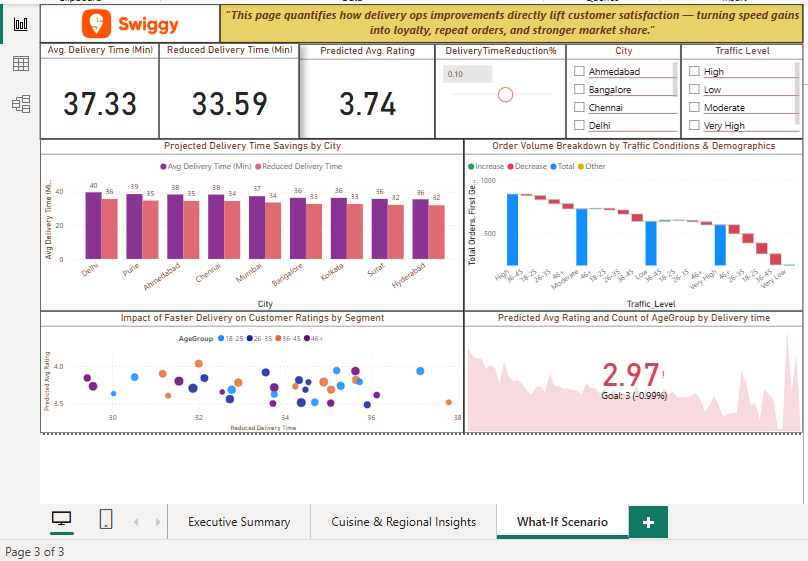

Layout of this report page (visuals, bound fields, positions):
{"tool":"powerbi","page":{"name":"What-If Scenario","canvas":[1280,720],"ordinal":2},"visuals":[{"type":"image","box":[0,0,302,65.4],"z":0},{"type":"textbox","box":[302,0,978,65.4],"z":1000},{"type":"card","title":"Avg. Delivery Time (Min)","fields":{"Values":["Swiggy_Data.Avg Delivery Time (Min)"]},"box":[0,65.4,199.6,161],"z":2000},{"type":"card","title":"Predicted Avg. Rating","fields":{"Values":["DeliveryTimeReduction%.Predicted Avg Rating"]},"box":[434.5,67.1,228.2,159.4],"z":3000},{"type":"card","title":"Reduced Delivery Time (Min)","fields":{"Values":["DeliveryTimeReduction%.Reduced Delivery Time"]},"box":[199.6,65.4,234.9,161],"z":4000},{"type":"slicer","title":"DeliveryTimeReduction%","fields":{"Values":["DeliveryTimeReduction%.DeliveryTimeReduction%"]},"box":[662.6,67.1,219.8,159.4],"z":5000},{"type":"slicer","title":"City","fields":{"Values":["Swiggy_Data.City"]},"box":[882.4,67.1,192.9,159.4],"z":6000},{"type":"slicer","title":"Traffic Level","fields":{"Values":["Swiggy_Data.Traffic_Level"]},"box":[1075.3,67.1,204.7,159.4],"z":7000},{"type":"clusteredColumnChart","title":"Projected Delivery Time Savings by City","fields":{"Category":["Swiggy_Data.City"],"Y":["Swiggy_Data.Avg Delivery Time (Min)","DeliveryTimeReduction%.Reduced Delivery Time"]},"box":[0,226.5,711.3,288.5],"z":8000},{"type":"scatterChart","title":"Impact of Faster Delivery on Customer Ratings by Segment","fields":{"X":["DeliveryTimeReduction%.Reduced Delivery Time"],"Y":["DeliveryTimeReduction%.Predicted Avg Rating"],"Category":["Swiggy_Data.City"],"Size":["CountNonNull(Swiggy_Data.Gender)"],"Series":["Swiggy_Data.AgeGroup"]},"box":[0,515,711.3,204.7],"z":9000},{"type":"waterfallChart","title":"Order Volume Breakdown by Traffic Conditions & Demographics","fields":{"Category":["Swiggy_Data.Traffic_Level"],"Breakdown":["Swiggy_Data.AgeGroup"],"Y":["Swiggy_Data.Total Orders"]},"box":[711.3,226.5,568.7,288.5],"z":10000},{"type":"kpi","fields":{"Indicator":["DeliveryTimeReduction%.Predicted Avg Rating"],"TrendLine":["Swiggy_Data.Delivery time"],"Goal":["CountNonNull(Swiggy_Data.AgeGroup)"]},"box":[711,515,569,205],"z":11000}]}

Visuals, with their boxes in screenshot pixels (x1, y1, x2, y2):
image: {"left": 36, "top": 2, "right": 217, "bottom": 41}
textbox: {"left": 217, "top": 2, "right": 804, "bottom": 41}
"Avg. Delivery Time (Min)" card: {"left": 36, "top": 41, "right": 156, "bottom": 138}
"Predicted Avg. Rating" card: {"left": 297, "top": 42, "right": 434, "bottom": 138}
"Reduced Delivery Time (Min)" card: {"left": 156, "top": 41, "right": 297, "bottom": 138}
"DeliveryTimeReduction%" slicer: {"left": 434, "top": 42, "right": 566, "bottom": 138}
"City" slicer: {"left": 566, "top": 42, "right": 681, "bottom": 138}
"Traffic Level" slicer: {"left": 681, "top": 42, "right": 804, "bottom": 138}
"Projected Delivery Time Savings by City" clusteredColumnChart: {"left": 36, "top": 138, "right": 463, "bottom": 311}
"Impact of Faster Delivery on Customer Ratings by Segment" scatterChart: {"left": 36, "top": 311, "right": 463, "bottom": 434}
"Order Volume Breakdown by Traffic Conditions & Demographics" waterfallChart: {"left": 463, "top": 138, "right": 804, "bottom": 311}
kpi - DeliveryTimeReduction%.Predicted Avg Rating x Swiggy_Data.Delivery time: {"left": 463, "top": 311, "right": 804, "bottom": 434}
